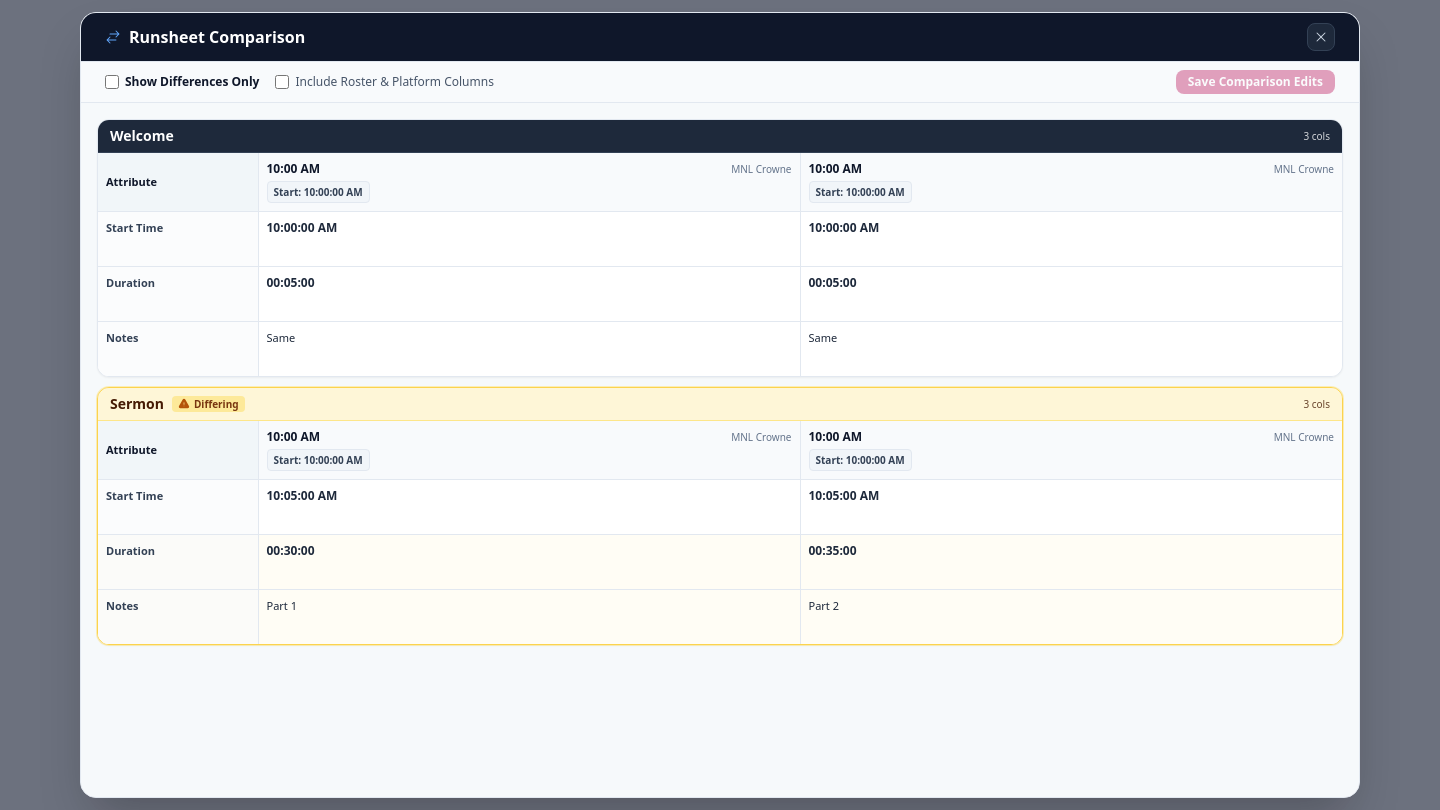
Test case: RunsheetCompareView › filters to show only segments and columns with differences when Show Differences Only is checked
This screenshot has width=1440, height=810.
Expected: the text "Welcome" is shown, x1=110 y1=126 x2=174 y2=145
Expected: the text "Sermon" is shown, x1=110 y1=394 x2=164 y2=413
Note: Toggle Show Differences Only
Click the checkbox labelled "Show Differences Only": (112, 82) x1=105 y1=75 x2=119 y2=89
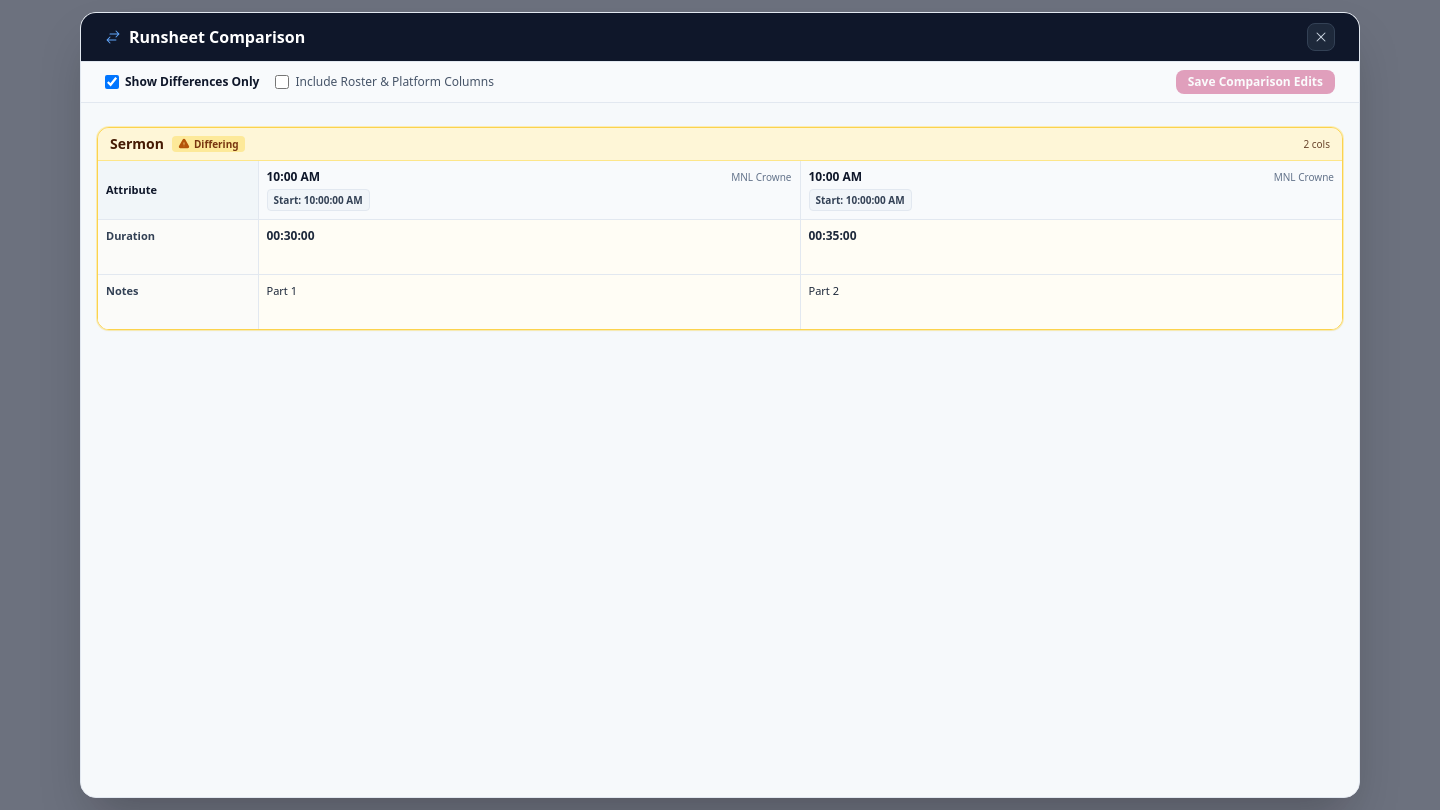
Expected: the text "Sermon" is shown, x1=110 y1=128 x2=164 y2=147
Expected: the text "Welcome" is gone
